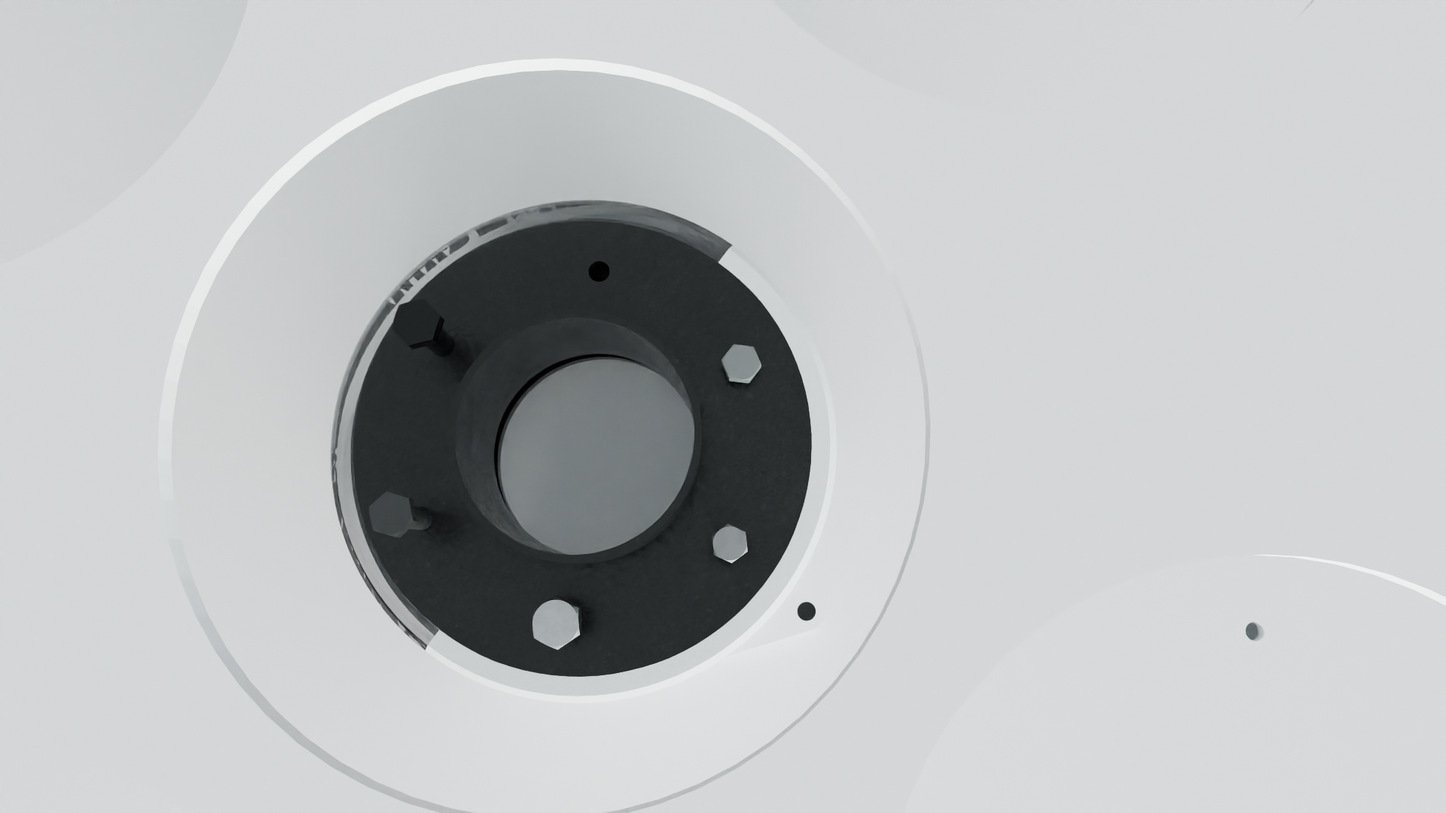bolt: (532, 596, 580, 650), (392, 299, 441, 346), (368, 492, 413, 537), (721, 344, 761, 381), (712, 524, 748, 563)
